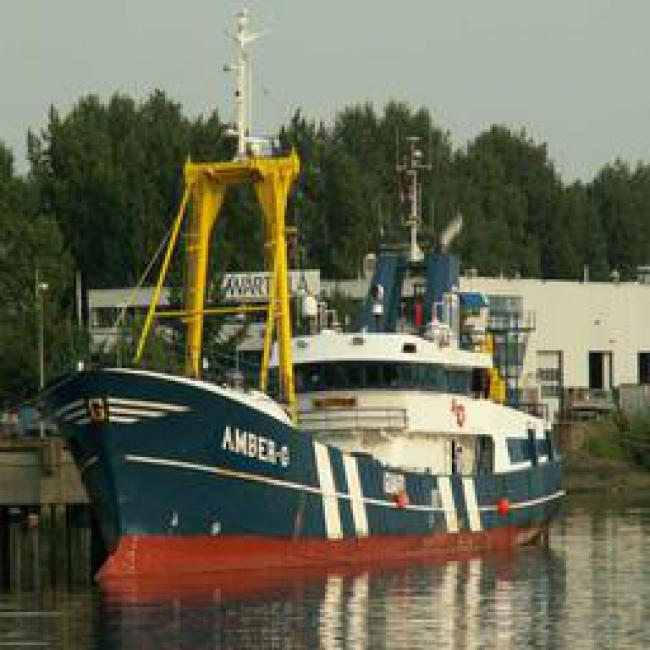Ship: (44, 189, 578, 580)
